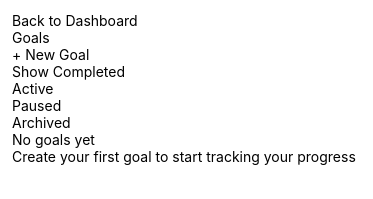
Test: GoalsScreen › Create View › renders create form
Click the button with aria-label "Create new goal".
click(51, 54)  # box [12,46,356,63]
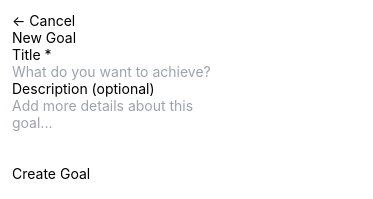
Expected: the text "Title *" is shown, [12,46,52,63]
Expected: the text "Description (optional)" is shown, [12,80,154,97]
Expected: the button labelled "Create Goal" is shown, [12,165,230,182]
